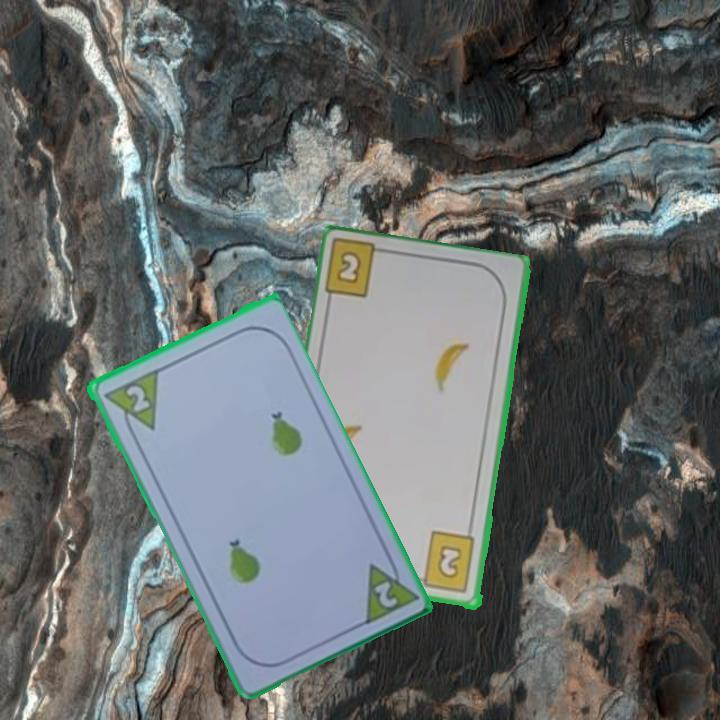2b: (410, 529, 479, 596), (322, 239, 394, 302)
2p: (121, 381, 152, 415), (369, 577, 400, 611)
